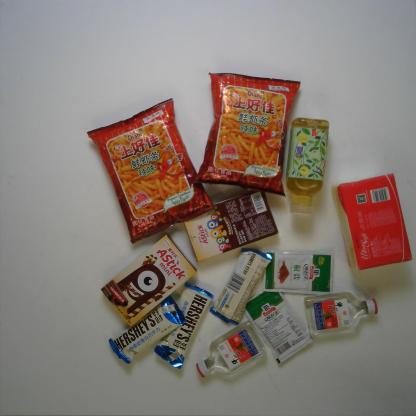Alcohol: (194, 318, 270, 381), (302, 290, 379, 338)
Chocolate: (107, 293, 188, 367), (152, 280, 214, 371), (207, 245, 275, 326)
Dessert: (99, 231, 199, 328), (182, 188, 280, 263)
Drink: (284, 115, 331, 218)
Puffed Food: (86, 96, 216, 244), (193, 70, 302, 199)
Seasoner: (243, 289, 315, 366), (260, 247, 336, 298)
Tissue: (331, 171, 414, 272)
